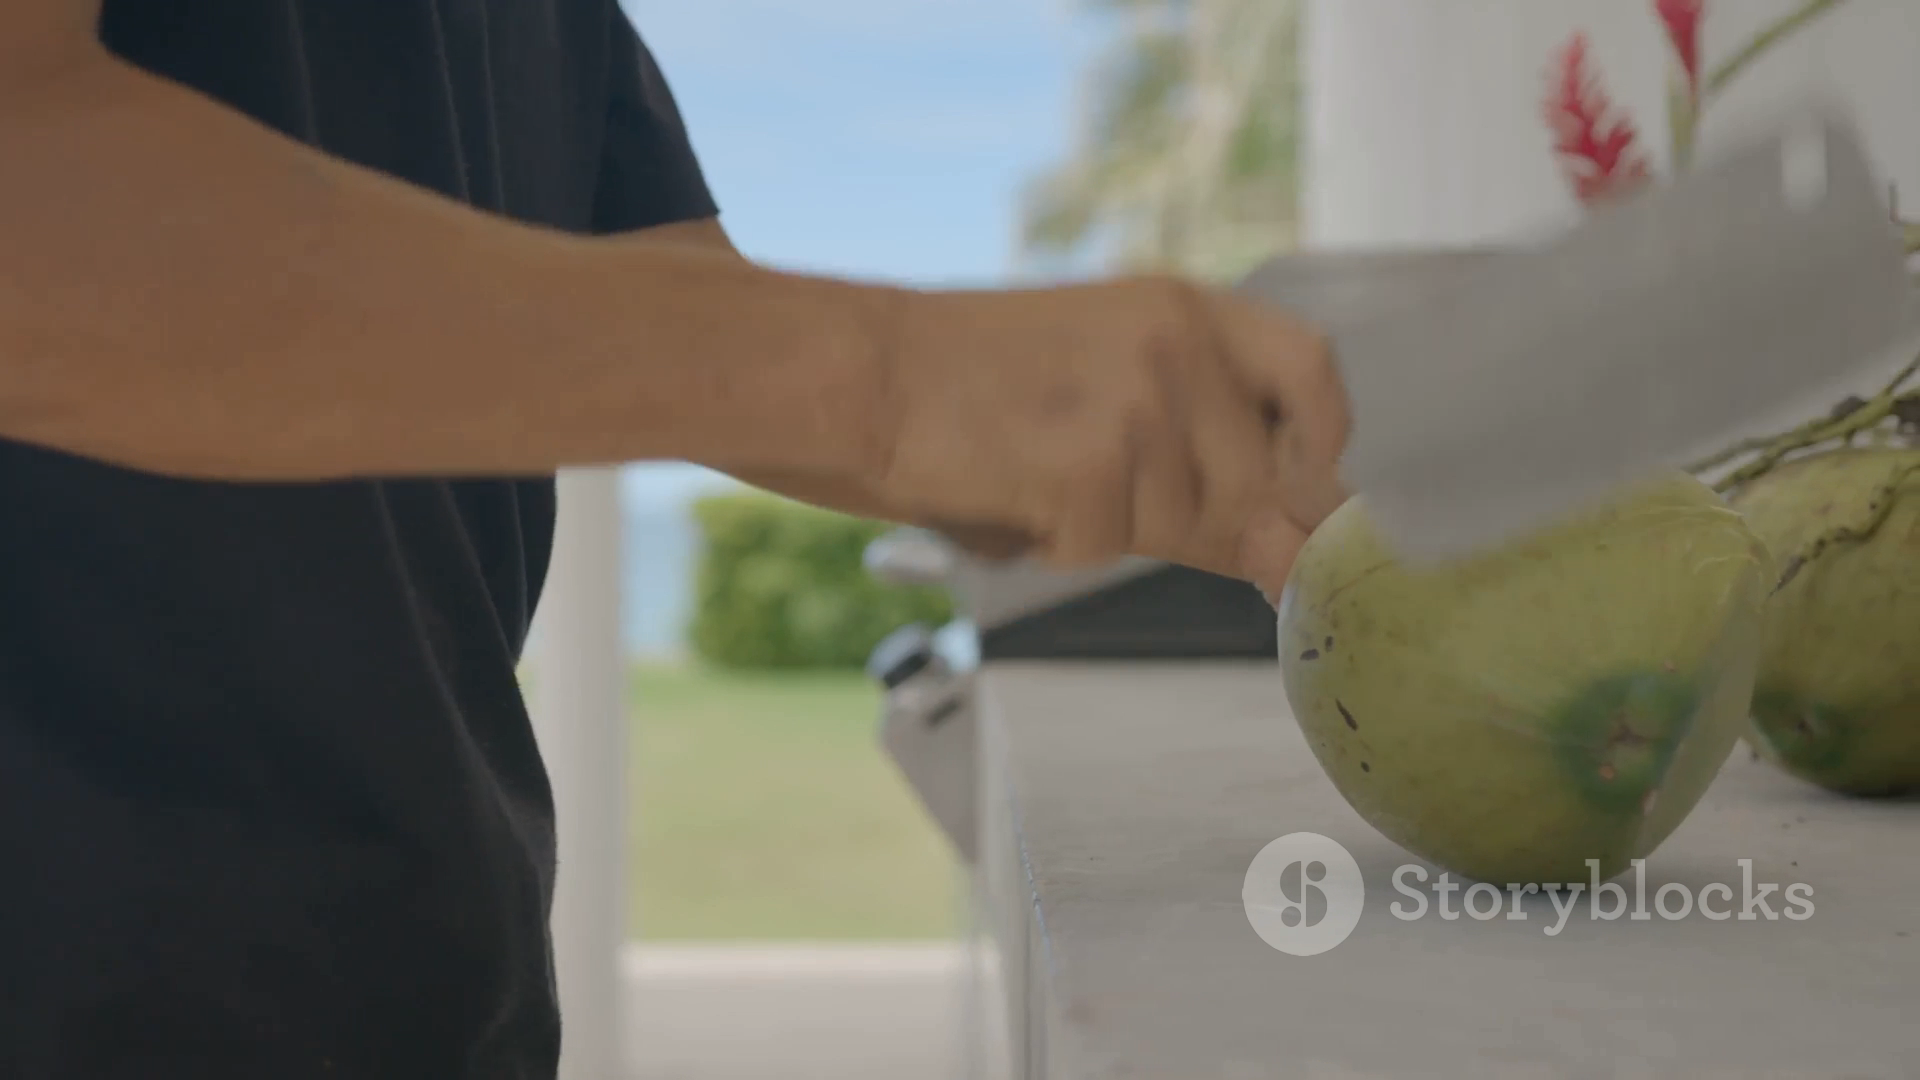cortante: (1300, 104, 1920, 568)
